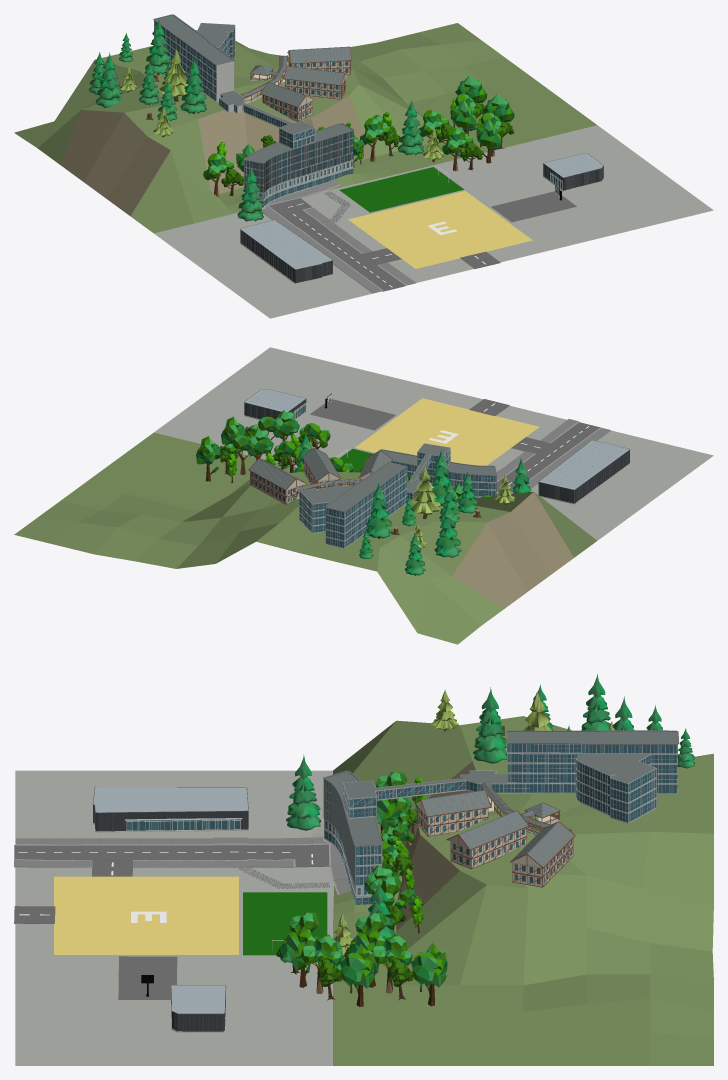
The model's file is Modeloconmeshjunto.glb.
The picture shows the model from 3 angles, top to bottom: view 1: azimuth 30°, elevation 25°; view 2: azimuth 150°, elevation 25°; view 3: azimuth 270°, elevation 25°; orthographic projection. The views are drawn at different scales.
Visible parts, largest first — view 1: base_terrain, g_tree19, parking, car_road01, cti_floor1, gym_court1, ebuilding_floor5, hbuilding_floor6, gym_floor1, gym_court2, cabin03_floor2, ebuilding_floor4 (+11 smaller); view 2: base_terrain, g_tree19, parking, car_road01, cti_floor1, ebuilding_floor5, gym_floor1, gym_court2, ebuilding_floor4, hbuilding_floor6, cabin03_floor2, cabin02_floor2 (+4 smaller); view 3: base_terrain, g_tree19, parking, car_road01, cti_floor1, ebuilding_floor5, gym_court1, ebuilding_floor4, ebuilding_floor1, gym_floor1, gym_court2, cabin02_floor2 (+11 smaller).
Boxes of the visible parts, <box> form: base_terrain: <box>14,23,713,318</box>; g_tree19: <box>89,19,514,221</box>; parking: <box>348,191,532,268</box>; car_road01: <box>261,179,500,293</box>; cti_floor1: <box>240,219,333,283</box>; gym_court1: <box>339,167,463,212</box>; ebuilding_floor5: <box>153,14,234,72</box>; hbuilding_floor6: <box>243,123,353,170</box>; gym_floor1: <box>543,153,603,191</box>; gym_court2: <box>491,185,576,222</box>; cabin03_floor2: <box>287,46,351,68</box>; ebuilding_floor4: <box>154,23,235,79</box>; base_terrain: <box>14,347,713,644</box>; g_tree19: <box>196,410,531,575</box>; parking: <box>355,398,539,465</box>; car_road01: <box>469,399,610,495</box>; cti_floor1: <box>538,440,630,504</box>; ebuilding_floor5: <box>325,461,407,519</box>; gym_floor1: <box>244,389,306,419</box>; gym_court2: <box>310,393,395,430</box>; ebuilding_floor4: <box>299,474,407,526</box>; hbuilding_floor6: <box>379,449,496,482</box>; cabin03_floor2: <box>248,458,306,497</box>; cabin02_floor2: <box>302,447,341,488</box>; base_terrain: <box>15,716,713,1065</box>; g_tree19: <box>276,674,694,1006</box>; parking: <box>54,876,238,954</box>; car_road01: <box>14,837,351,923</box>; cti_floor1: <box>92,787,248,832</box>; ebuilding_floor5: <box>506,730,678,754</box>; gym_court1: <box>243,892,327,955</box>; ebuilding_floor4: <box>507,753,677,793</box>; ebuilding_floor1: <box>460,770,677,823</box>; gym_floor1: <box>170,985,226,1032</box>; gym_court2: <box>118,956,177,999</box>; cabin02_floor2: <box>446,810,529,858</box>.
Size of the model in its own units: 0.8191 by 0.1973 by 0.8206.
Materials: 59 (18 with a texture image).
